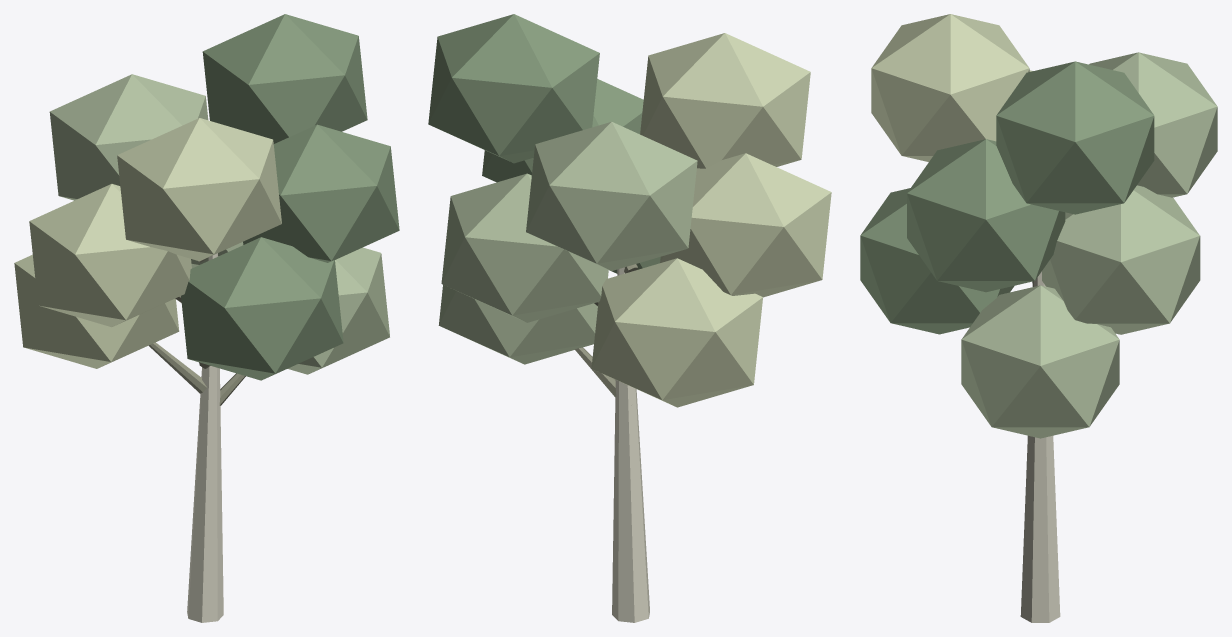
File: birch.glb
3 renders of one model, left to right at view 1: azimuth 30°, elevation 25°; view 2: azimuth 150°, elevation 25°; view 3: azimuth 270°, elevation 25°, orthographic. The views are drawn at different scales.
Parts seen in each view (by area): view 1: leaves.007, leaves.002, leaves.008, leaves.004, leaves.005, leaves.006, leaves.001, branch, leaves, branch.002; view 2: leaves.006, leaves.001, leaves.008, leaves.007, leaves.004, leaves.003, branch, leaves, leaves.005; view 3: leaves.008, leaves, leaves.003, leaves.007, leaves.005, leaves.002, leaves.006, branch.
Part boxes in pixels (x1,y1,x2,y2): leaves.007: [117, 118, 281, 261]; leaves.002: [181, 237, 343, 380]; leaves.008: [202, 14, 367, 143]; leaves.004: [29, 184, 191, 327]; leaves.005: [243, 124, 399, 262]; leaves.006: [49, 74, 208, 200]; leaves.001: [14, 255, 179, 368]; branch: [187, 253, 223, 622]; leaves: [287, 247, 389, 374]; branch.002: [148, 342, 206, 393]; leaves.006: [526, 121, 697, 270]; leaves.001: [591, 258, 762, 407]; leaves.008: [428, 14, 599, 163]; leaves.007: [640, 33, 810, 168]; leaves.004: [660, 153, 831, 297]; leaves.003: [441, 173, 607, 322]; branch: [612, 267, 649, 622]; leaves: [438, 269, 608, 364]; leaves.005: [482, 79, 643, 182]; leaves.008: [996, 61, 1154, 214]; leaves: [961, 285, 1119, 438]; leaves.003: [1042, 185, 1200, 334]; leaves.007: [871, 14, 1029, 161]; leaves.005: [907, 139, 1065, 292]; leaves.002: [860, 188, 1014, 334]; leaves.006: [1089, 52, 1217, 197]; branch: [1020, 271, 1060, 622].
Size of the model in its own units: 2.56 by 3.94 by 2.11.
